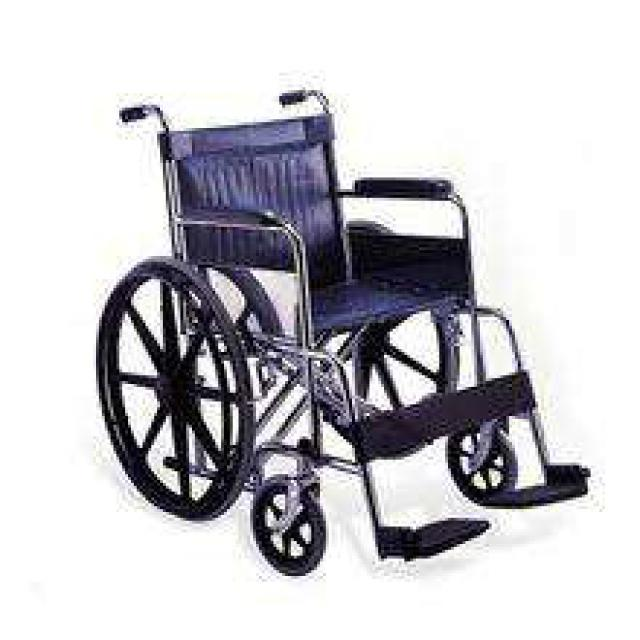wheelchair: (87, 81, 588, 579)
